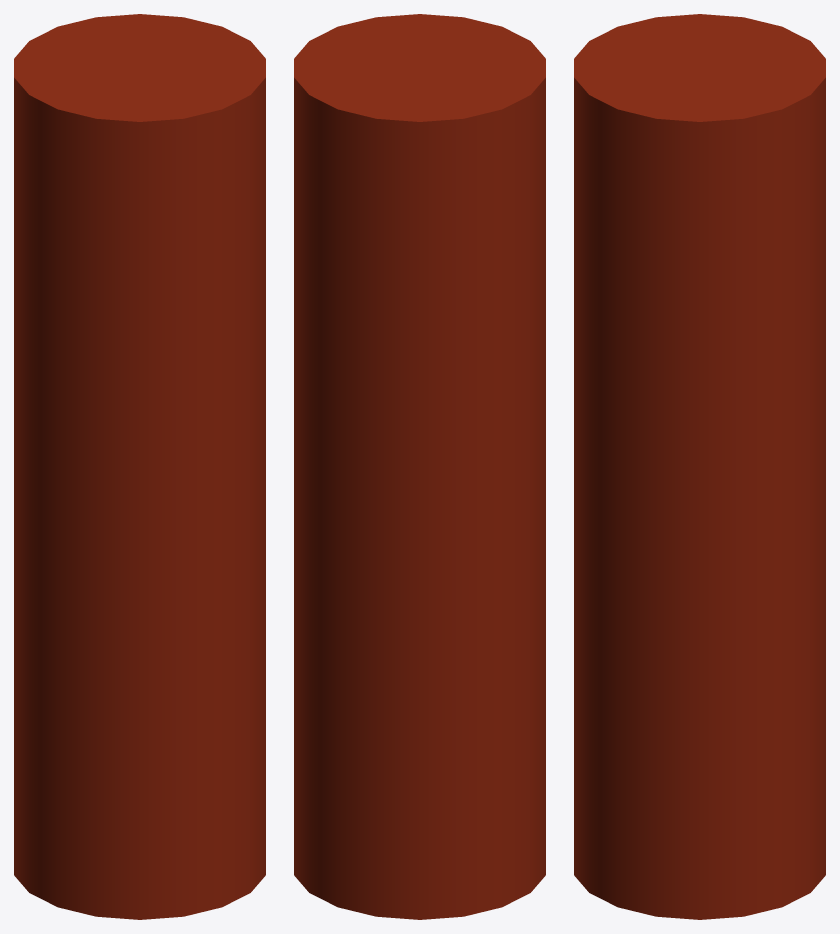
File: Jap_column.fbx
3 views of the same model, side by side, from view 1: azimuth 30°, elevation 25°; view 2: azimuth 150°, elevation 25°; view 3: azimuth 270°, elevation 25° (orthographic).
Visible parts, largest first — view 1: Cylinder021; view 2: Cylinder021; view 3: Cylinder021.
Boxes of the visible parts, left/top/right/bottom form: Cylinder021: left=14, top=14, right=265, bottom=919; Cylinder021: left=294, top=14, right=545, bottom=919; Cylinder021: left=574, top=14, right=825, bottom=919.
Size of the model in its own units: 68.47 by 236 by 67.43.
